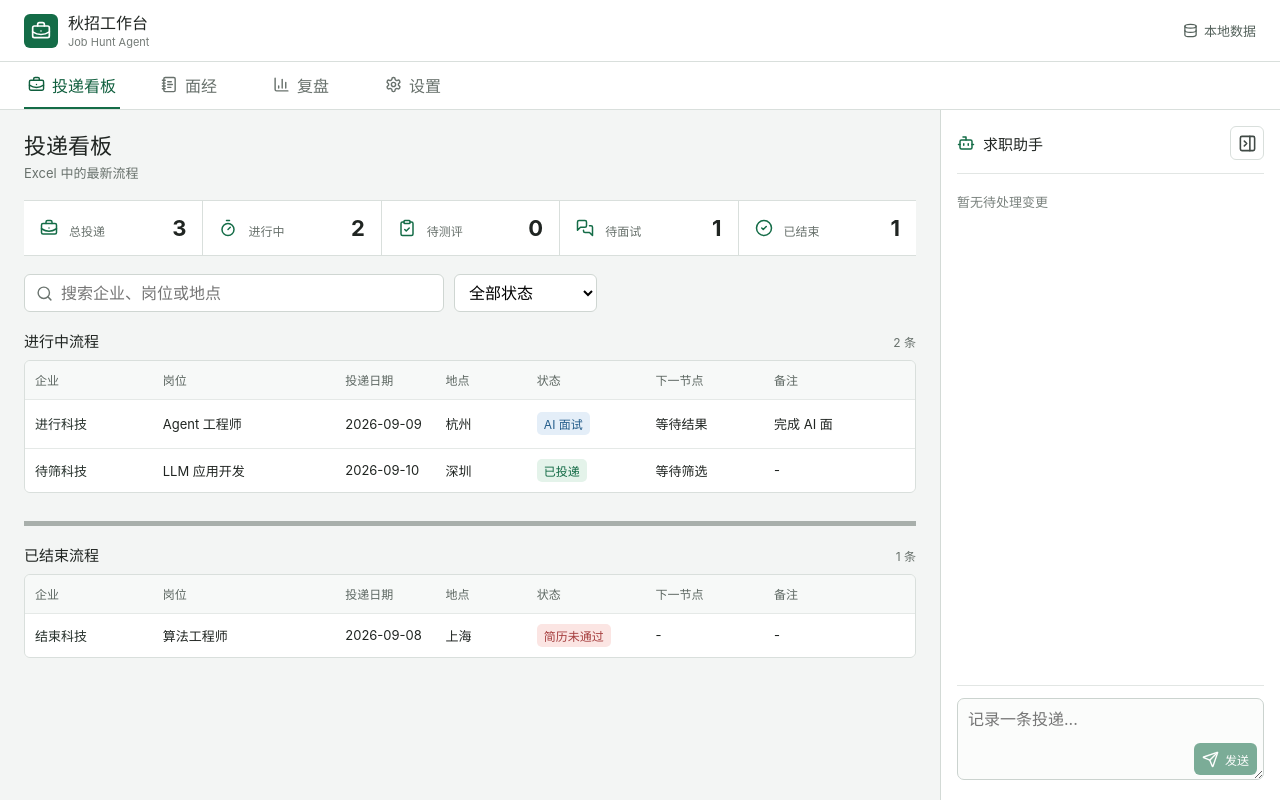
Test: AppShell › filters statuses and separates closed processes without strike-through
Check: the text "进行科技" is shown, box [25, 399, 153, 448]
Check: the text "结束科技" does not have style "textDecoration: line-through", box [25, 613, 153, 657]
Select "已投递" in the dropdown named "状态筛选" at (526, 293), box [454, 274, 597, 312]
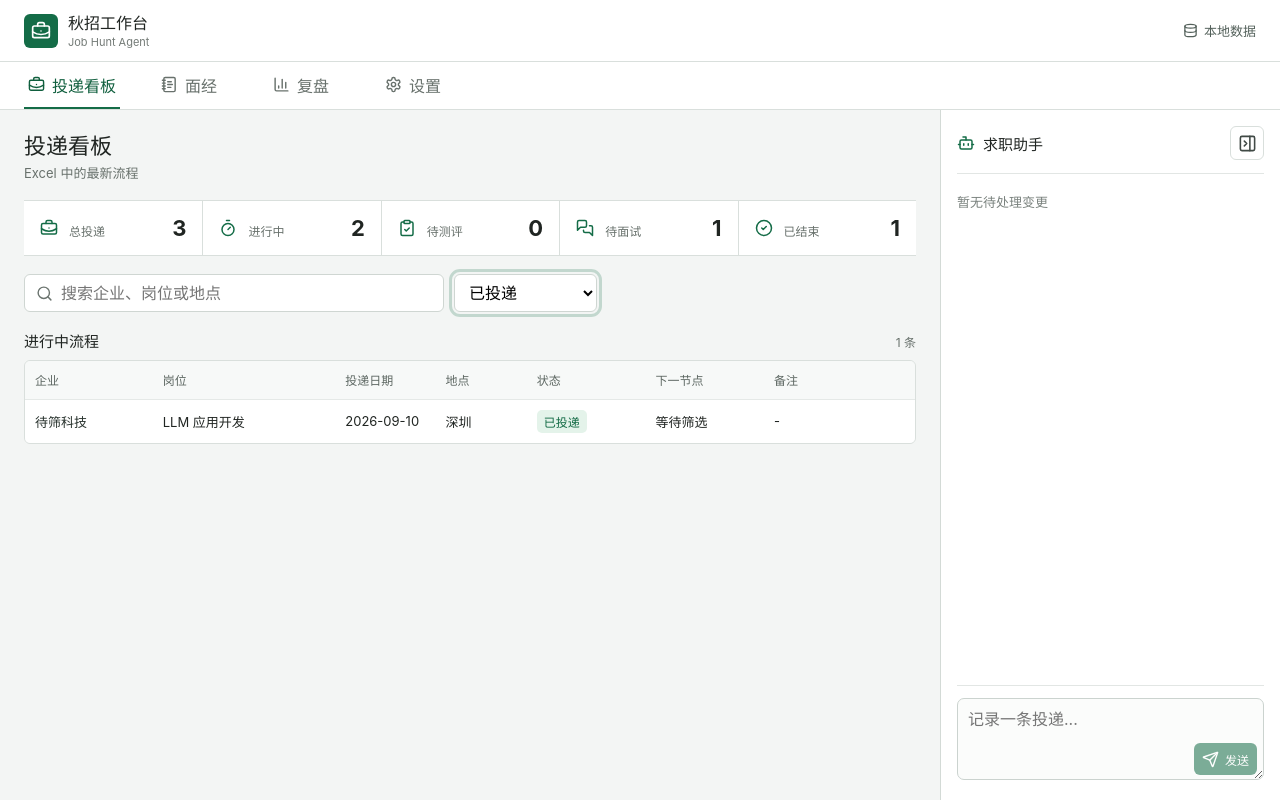
Check: the text "待筛科技" is shown, box [25, 399, 153, 443]
Check: the text "进行科技" is gone
Check: the heading "已结束流程" is gone
